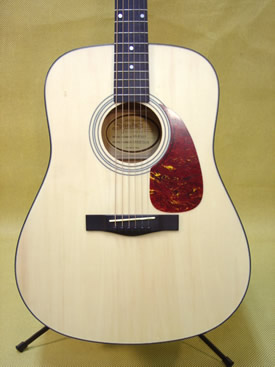guitar: (14, 1, 253, 344)
